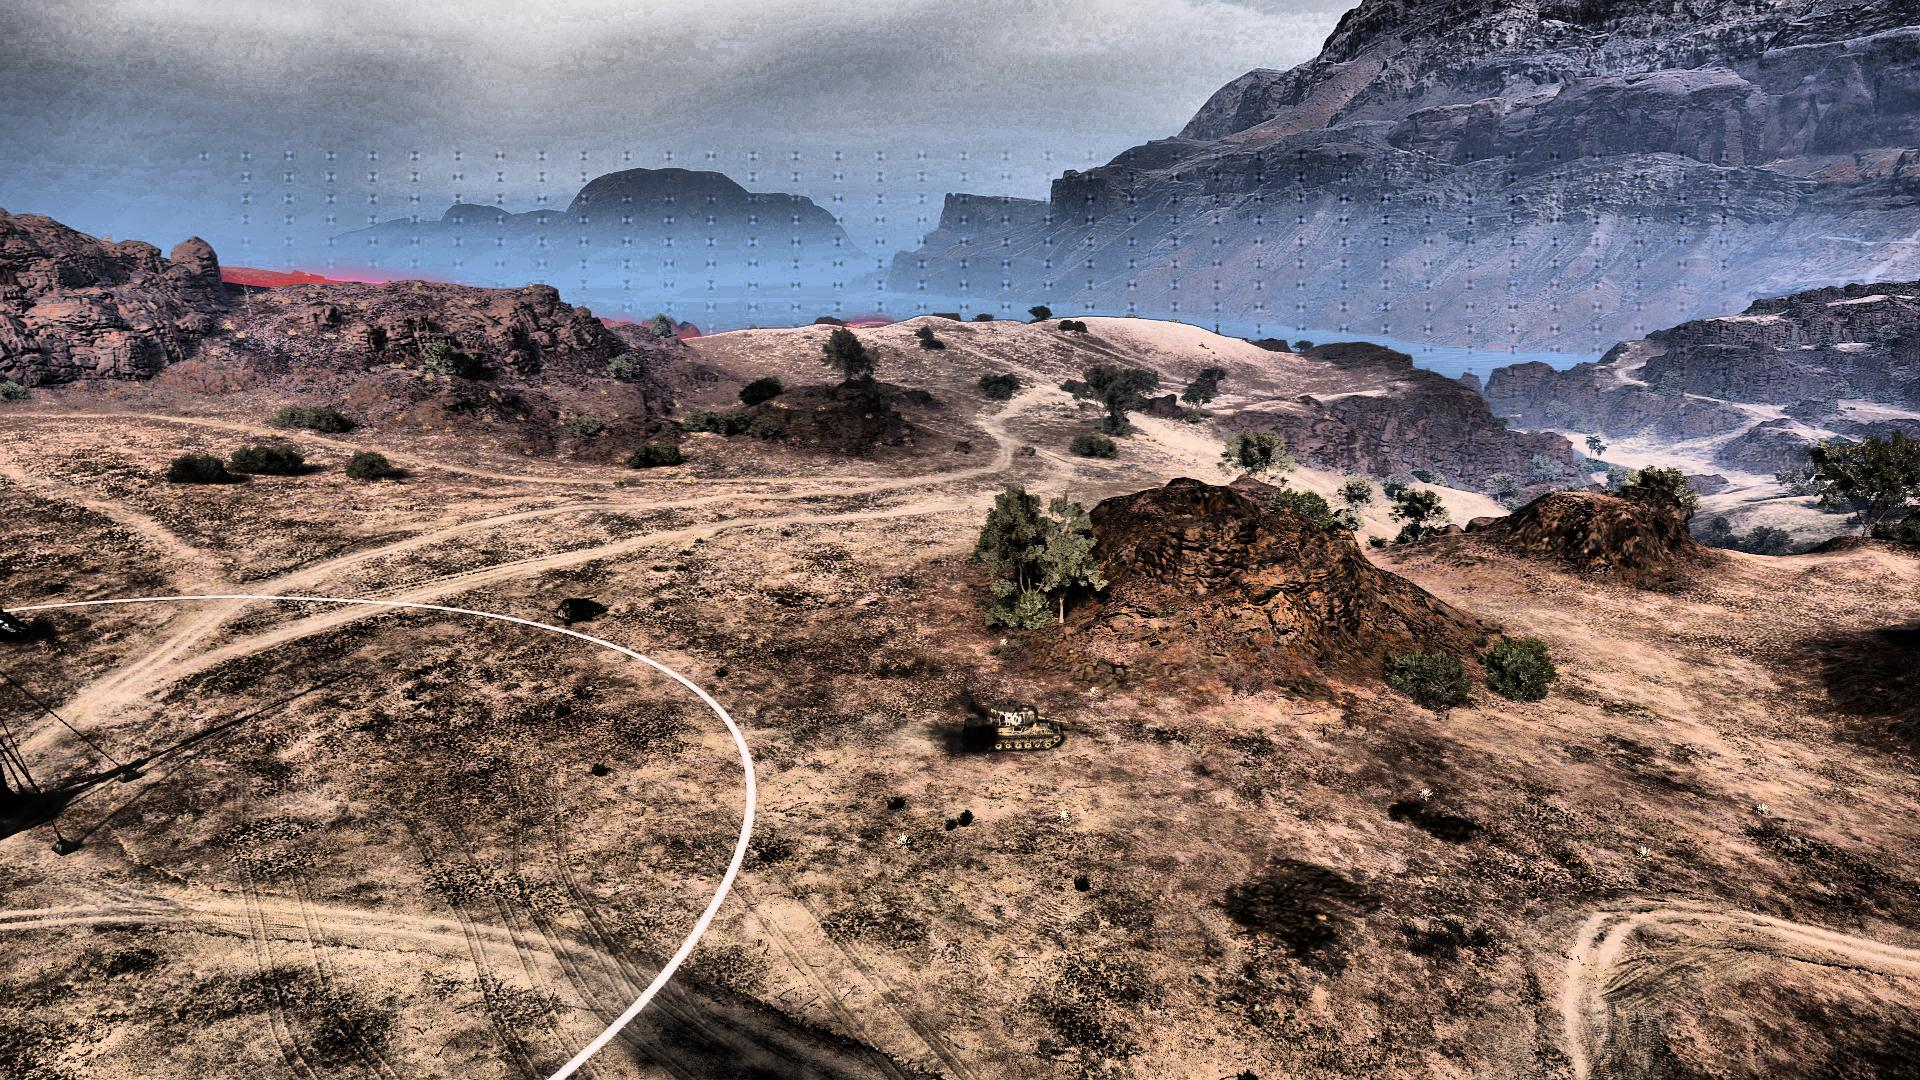military-vehicle: (960, 700, 1088, 752)
